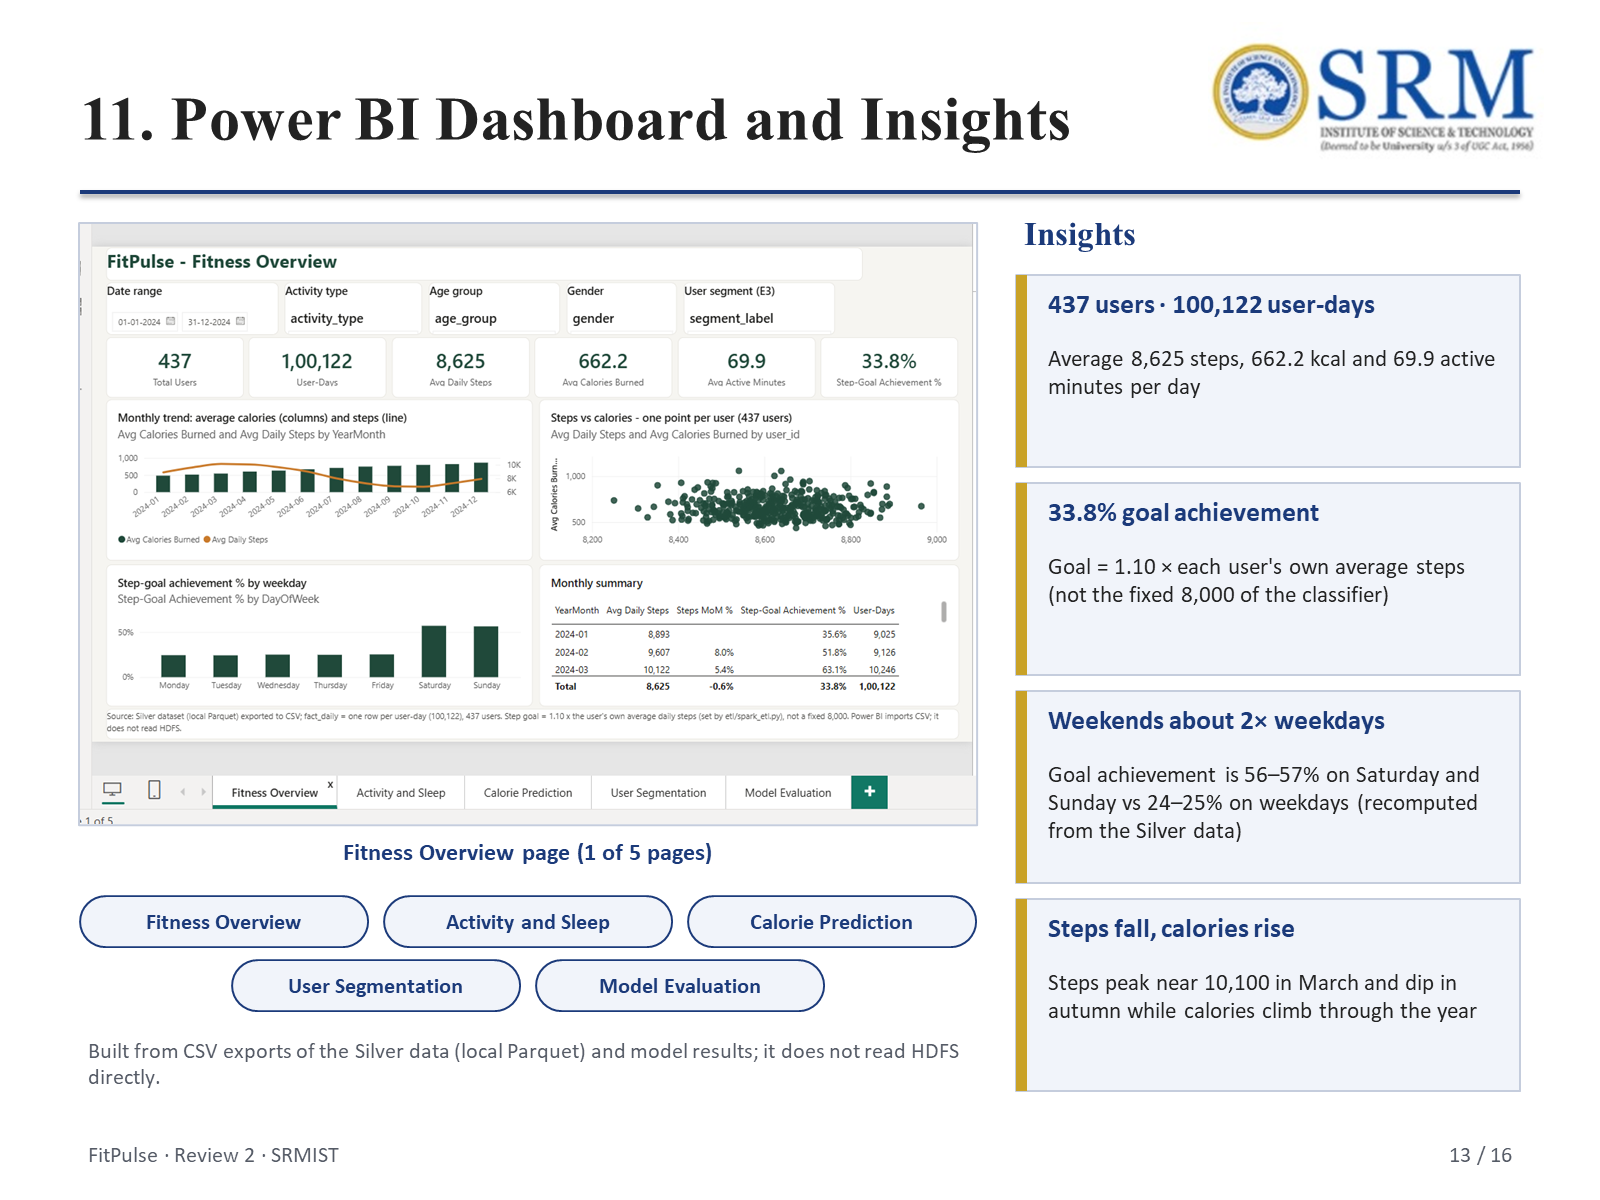

The dashboard page shown, as its layout file describes it:
{"tool":"powerbi","page":{"name":"Fitness Overview","canvas":[1280,720],"ordinal":0},"visuals":[{"type":"textbox","box":[20,2,1100,48],"z":1000},{"type":"slicer","title":"Date range","fields":{"Values":["dim_date.Date"]},"box":[20,52,250,76],"z":2000},{"type":"slicer","title":"Activity type","fields":{"Values":["fact_daily.activity_type"]},"box":[280,52,200,76],"z":3000},{"type":"slicer","title":"Age group","fields":{"Values":["dim_user.age_group"]},"box":[490,52,190,76],"z":4000},{"type":"slicer","title":"Gender","fields":{"Values":["dim_user.gender"]},"box":[690,52,160,76],"z":5000},{"type":"slicer","title":"User segment (E3)","fields":{"Values":["dim_user.segment_label"]},"box":[860,52,220,76],"z":6000},{"type":"card","fields":{"Values":["fact_daily.Total Users"]},"box":[20,132,200,88],"z":7000},{"type":"card","fields":{"Values":["fact_daily.User-Days"]},"box":[228,132,200,88],"z":8000},{"type":"card","fields":{"Values":["fact_daily.Avg Daily Steps"]},"box":[436,132,200,88],"z":9000},{"type":"card","fields":{"Values":["fact_daily.Avg Calories Burned"]},"box":[644,132,200,88],"z":10000},{"type":"card","fields":{"Values":["fact_daily.Avg Active Minutes"]},"box":[852,132,200,88],"z":11000},{"type":"card","fields":{"Values":["fact_daily.Step-Goal Achievement %"]},"box":[1060,132,200,88],"z":12000},{"type":"lineClusteredColumnComboChart","title":"Monthly trend: average calories (columns) and steps (line)","fields":{"Category":["dim_date.YearMonth"],"Y":["fact_daily.Avg Calories Burned"],"Y2":["fact_daily.Avg Daily Steps"]},"box":[20,222,620,234],"z":13000},{"type":"scatterChart","title":"Steps vs calories - one point per user (437 users)","fields":{"Category":["dim_user.user_id"],"X":["fact_daily.Avg Daily Steps"],"Y":["fact_daily.Avg Calories Burned"]},"box":[650,222,610,234],"z":14000},{"type":"clusteredColumnChart","title":"Step-goal achievement % by weekday","fields":{"Category":["dim_date.DayOfWeek"],"Y":["fact_daily.Step-Goal Achievement %"]},"box":[20,462,620,206],"z":15000},{"type":"tableEx","title":"Monthly summary","fields":{"Values":["dim_date.YearMonth","fact_daily.Avg Daily Steps","fact_daily.Steps MoM %","fact_daily.Step-Goal Achievement %","fact_daily.User-Days"]},"box":[650,462,610,206],"z":16000},{"type":"textbox","box":[20,672,1240,44],"z":17000}]}

Visuals, with their boxes on the page's 1280x720 design canvas (x1, y1, x2, y2). These are canvas units, not pixel positions in the 1600x1200 screenshot, which may show the page scaled, cropped or inside an application window:
textbox: crop(20, 2, 1120, 50)
"Date range" slicer: crop(20, 52, 270, 128)
"Activity type" slicer: crop(280, 52, 480, 128)
"Age group" slicer: crop(490, 52, 680, 128)
"Gender" slicer: crop(690, 52, 850, 128)
"User segment (E3)" slicer: crop(860, 52, 1080, 128)
card - fact_daily.Total Users: crop(20, 132, 220, 220)
card - fact_daily.User-Days: crop(228, 132, 428, 220)
card - fact_daily.Avg Daily Steps: crop(436, 132, 636, 220)
card - fact_daily.Avg Calories Burned: crop(644, 132, 844, 220)
card - fact_daily.Avg Active Minutes: crop(852, 132, 1052, 220)
card - fact_daily.Step-Goal Achievement %: crop(1060, 132, 1260, 220)
"Monthly trend: average calories (columns) and steps (line)" lineClusteredColumnComboChart: crop(20, 222, 640, 456)
"Steps vs calories - one point per user (437 users)" scatterChart: crop(650, 222, 1260, 456)
"Step-goal achievement % by weekday" clusteredColumnChart: crop(20, 462, 640, 668)
"Monthly summary" tableEx: crop(650, 462, 1260, 668)
textbox: crop(20, 672, 1260, 716)
